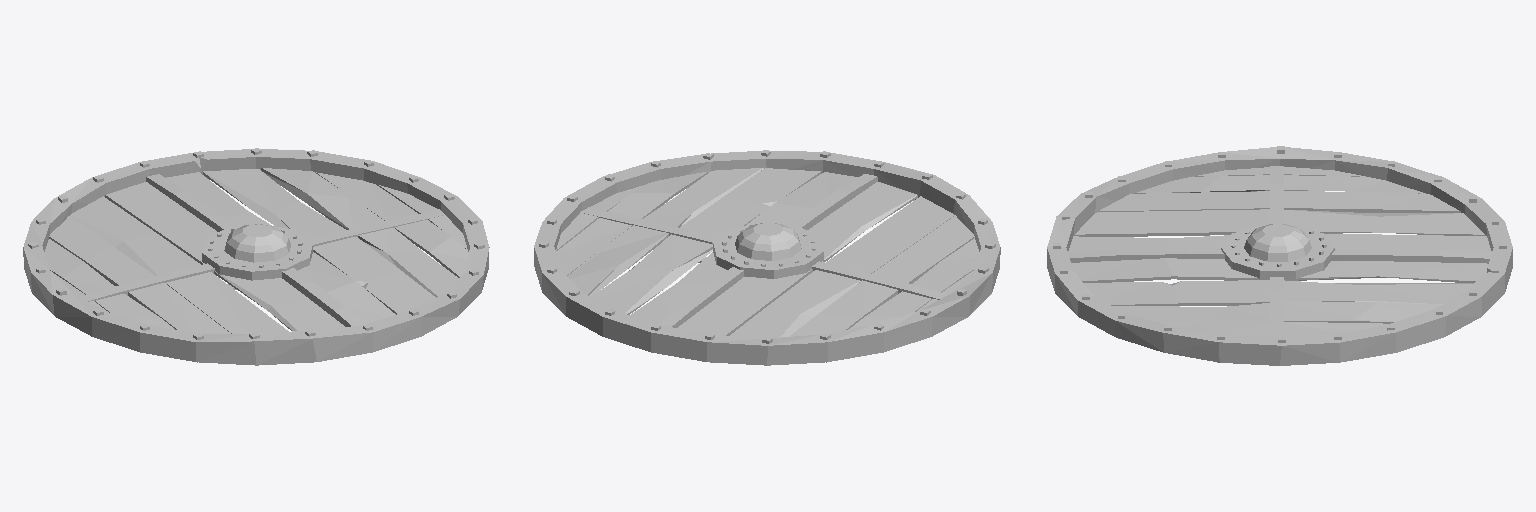
Rendered from Shield_3.obj.
3 views of the same model, side by side, from view 1: azimuth 30°, elevation 25°; view 2: azimuth 150°, elevation 25°; view 3: azimuth 270°, elevation 25° (orthographic).
Visible parts, largest first — view 1: Shield_3; view 2: Shield_3; view 3: Shield_3.
Part boxes in pixels (x1,y1,x2,y2): Shield_3: (23,148,489,365); Shield_3: (534,150,1000,365); Shield_3: (1047,146,1512,365).
Size of the model in its own units: 0.9238 by 0.1121 by 0.9184.